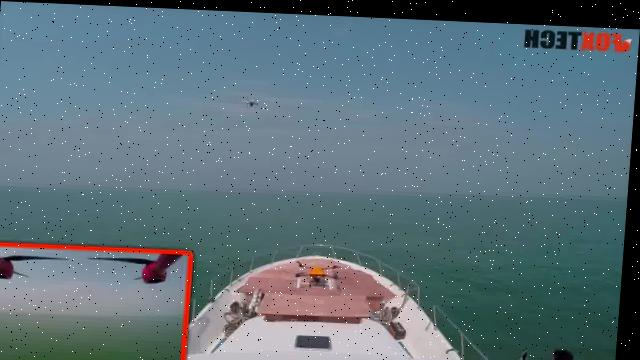drone: (287, 244, 355, 292), (239, 87, 272, 116)
